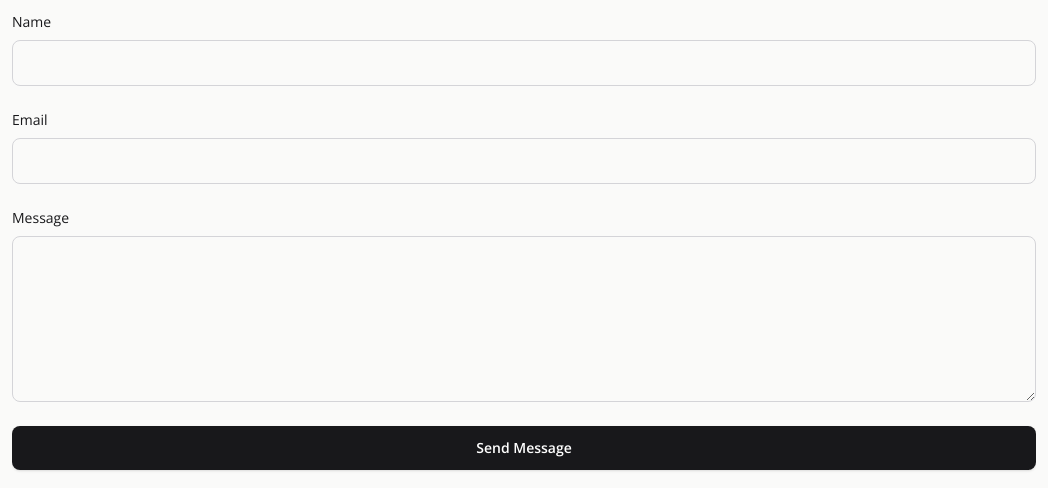
Test case: ContactForm › Submission › should show loading state during submission
The width and height of the screenshot is (1048, 488).
In the field labelled "Name": (524, 63) top-left (12, 40), bottom-right (1036, 86), type "John Doe"
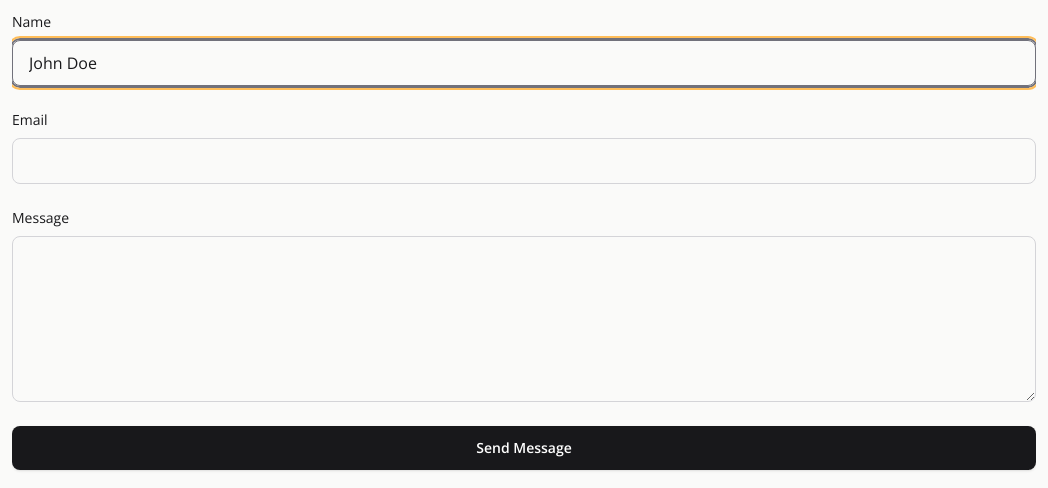
In the field labelled "Email": (524, 161) top-left (12, 138), bottom-right (1036, 184), type "john@example.com"
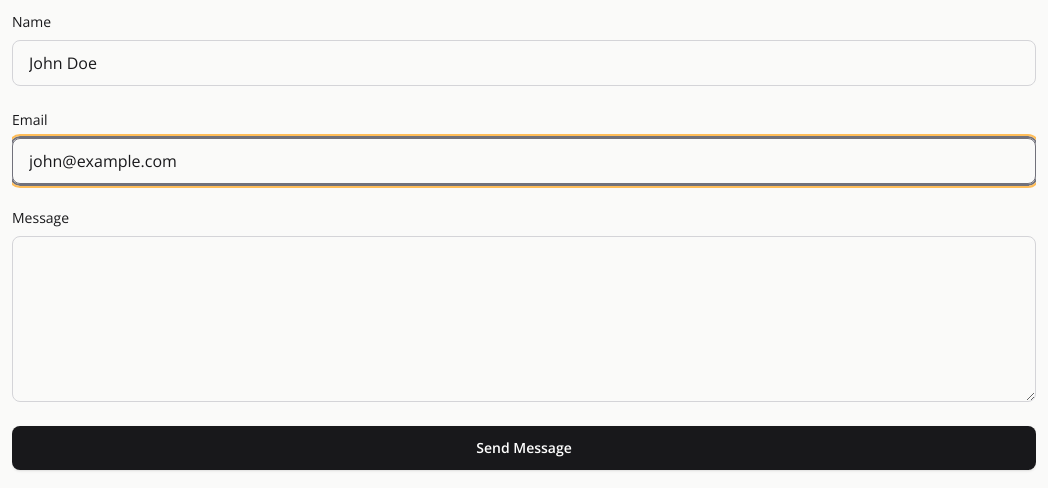
In the text box labelled "Message": (524, 319) top-left (12, 236), bottom-right (1036, 402), type "Test message"
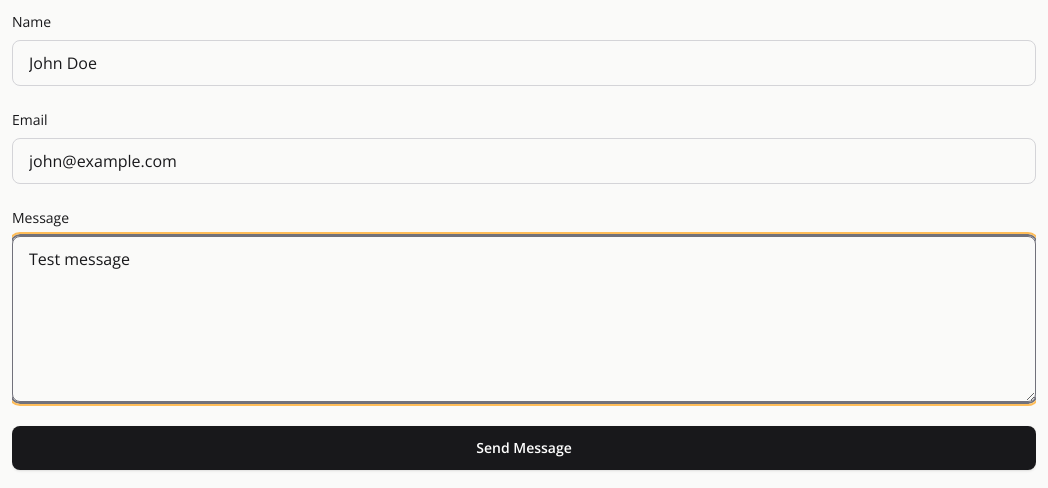
Click the button "Send Message": (524, 448) top-left (12, 426), bottom-right (1036, 470)
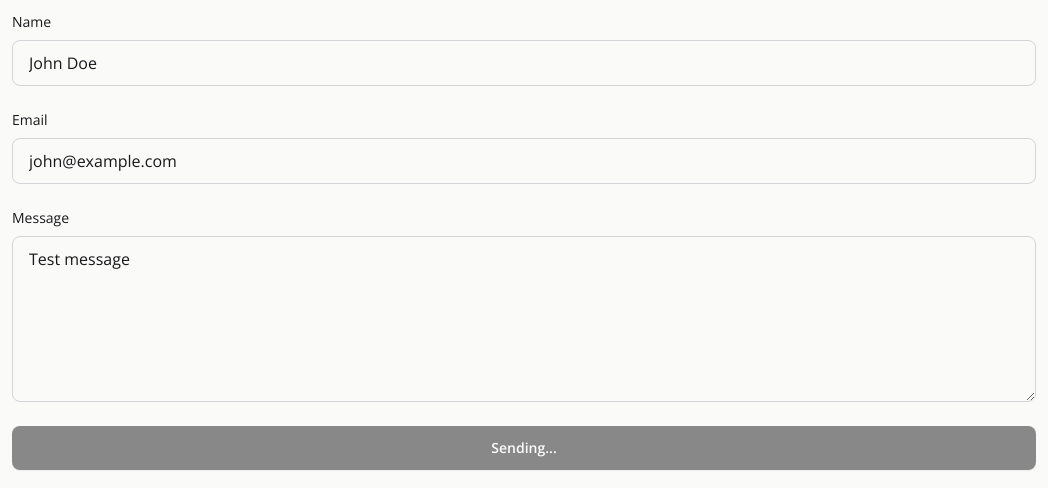
Expected: the button shows "Sending", top-left (12, 426), bottom-right (1036, 470)
Expected: the button is disabled, top-left (12, 426), bottom-right (1036, 470)
